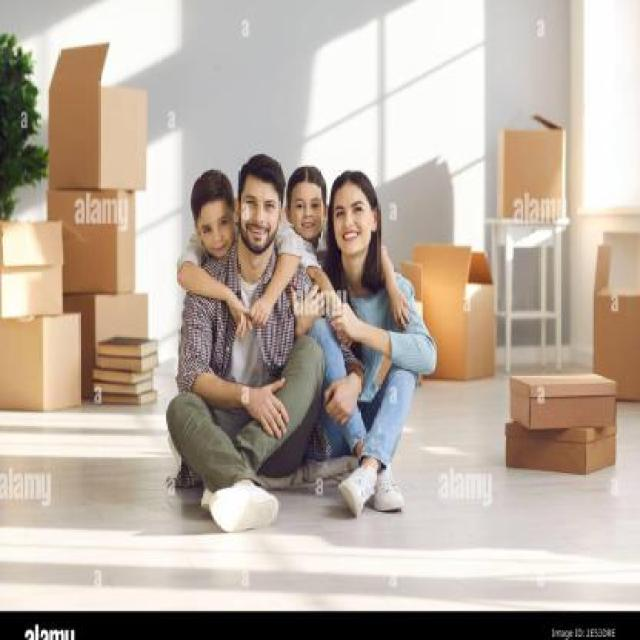box: (42, 38, 142, 194), (408, 235, 510, 387), (62, 288, 158, 404), (495, 114, 568, 249), (586, 249, 640, 430), (49, 190, 140, 288), (0, 310, 80, 416), (507, 369, 624, 440), (505, 422, 623, 482), (0, 214, 63, 316)
